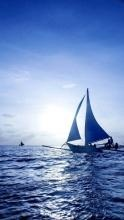fanchuan: (62, 87, 116, 157)
